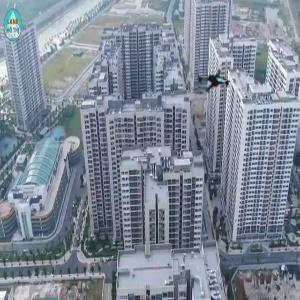drone: (177, 47, 252, 122)
